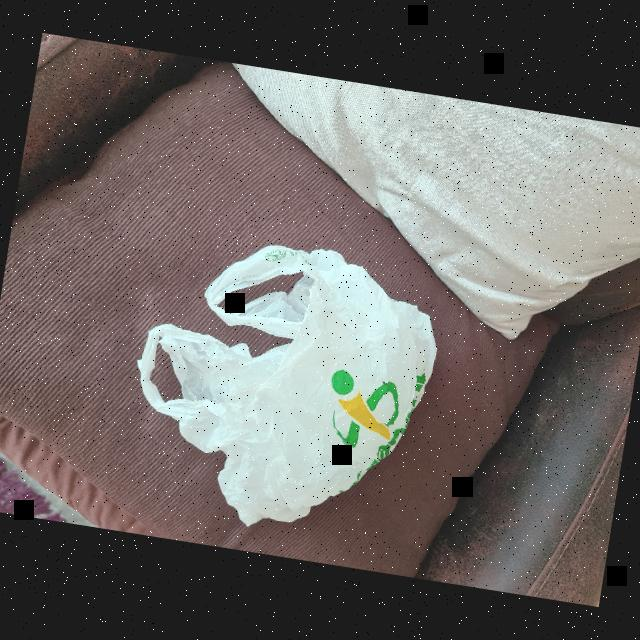plastic_bag: (120, 238, 447, 556)
